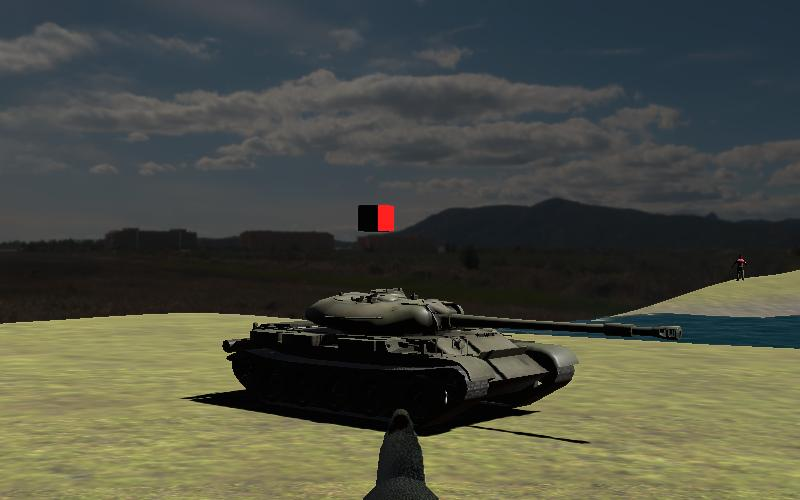Human: (729, 252, 750, 286)
Tank: (218, 280, 687, 437)
